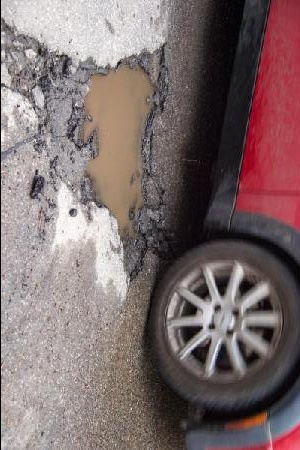pothole: (76, 39, 171, 282)
